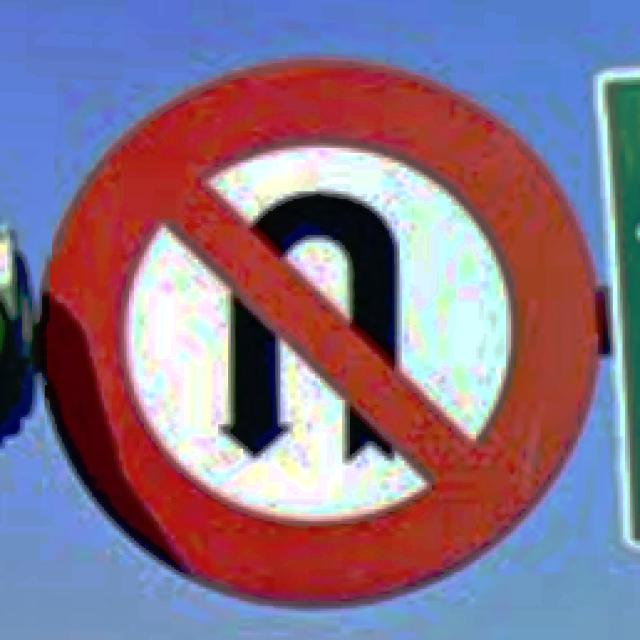nouturn: (37, 58, 603, 608)
